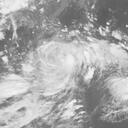cyclone: (29, 38, 88, 98)
